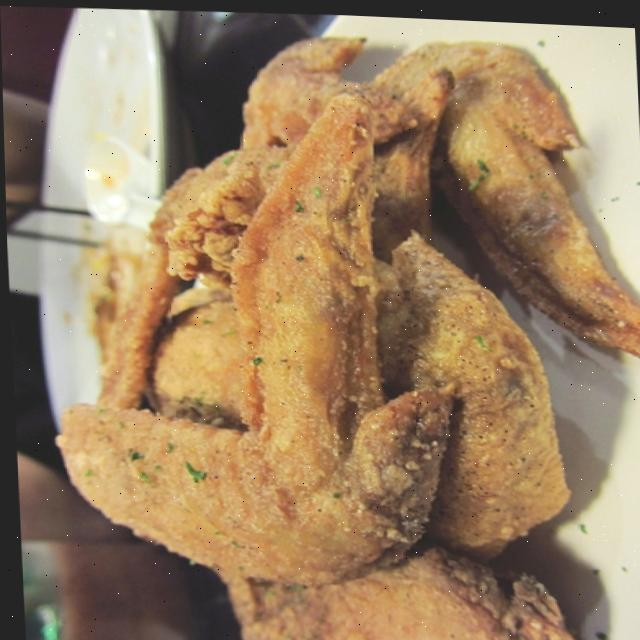鸡肉料理 含炸鸡: (18, 16, 640, 640)
